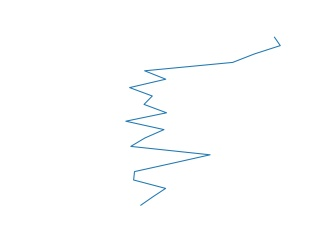crevasseRiverChannelBar: (122, 34, 286, 210)
